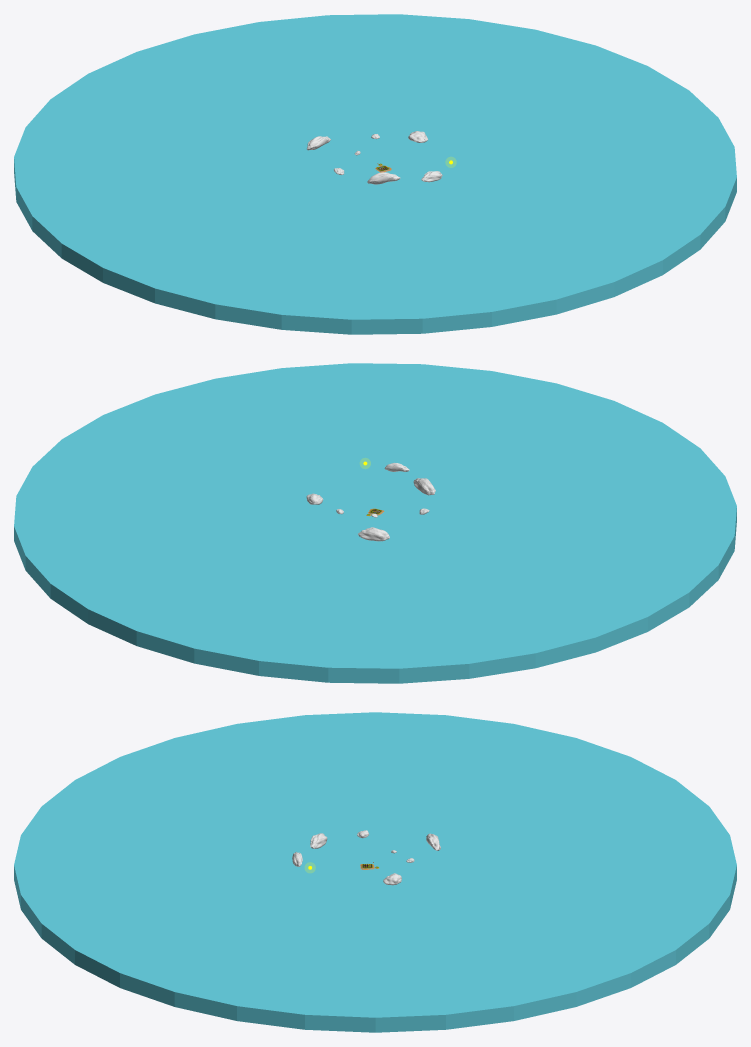
File: modelo-osoco.glb
3 views of the same model, one above another, from view 1: azimuth 30°, elevation 25°; view 2: azimuth 150°, elevation 25°; view 3: azimuth 270°, elevation 25° (orthographic).
Visible parts, largest first — view 1: mar; view 2: mar; view 3: mar.
Boxes of the visible parts, x1,y1,x2,y2 form: mar: (14,14,736,334); mar: (14,363,736,683); mar: (14,712,736,1032).
Bounding box in the file's own units: 3756 × 219 × 3756.
